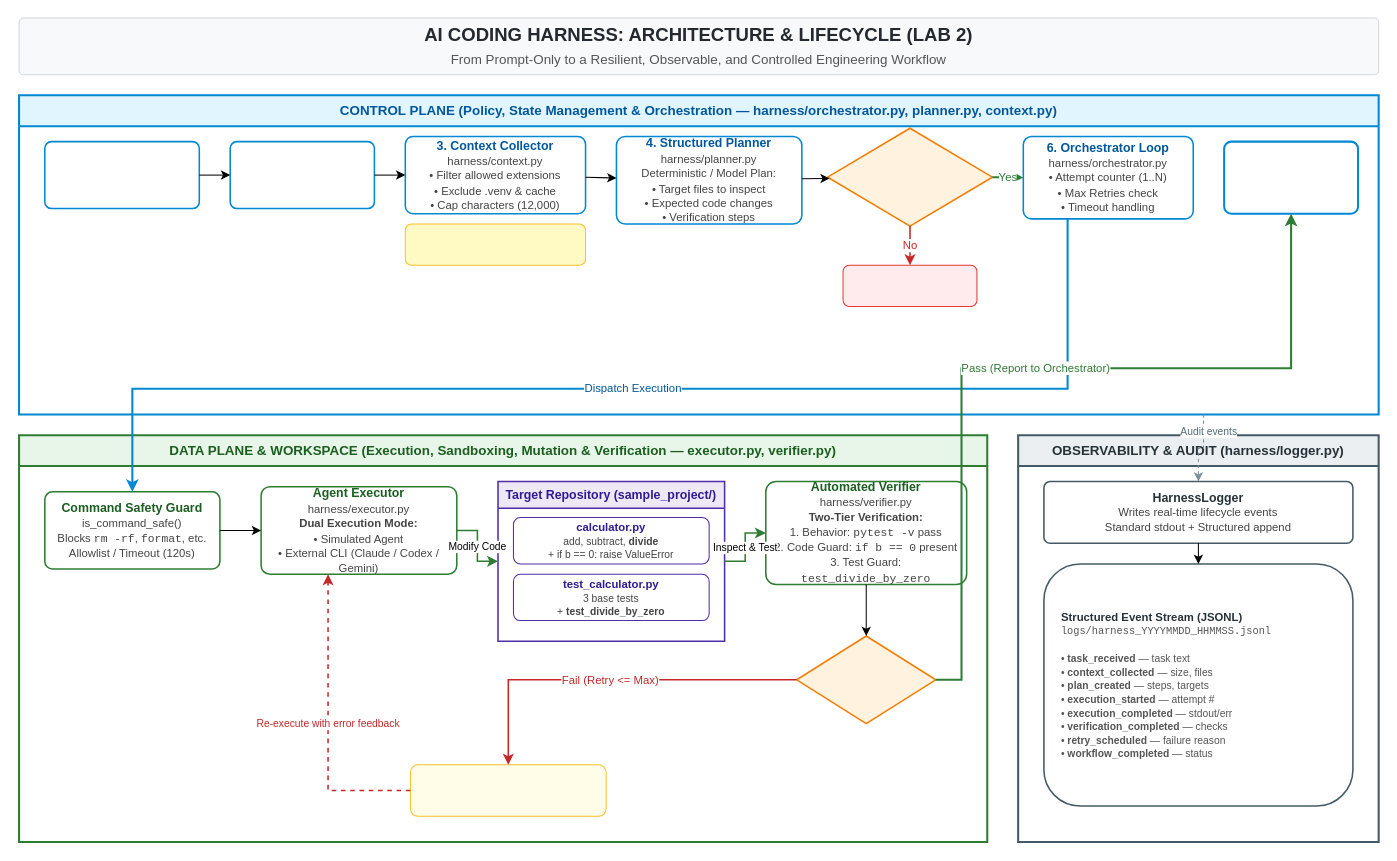
This 1397x861 diagram has some shape labels left out. The shapes that lost their labels are listed below. From the top down, each one's centre as x and y in pixels, then its label:
At (x=122, y=174): "1. User Task Input main.py Task definition & HarnessConfig".
At (x=302, y=174): "2. Task Validation Check empty task Format verification".
At (x=909, y=176): "5. Human Gatekeeper request_human_approval() Approve plan? (yes/no)".
At (x=1291, y=177): "7. Workflow Outcome SUCCESS (Verified) or FAILED (Max retries)".
At (x=495, y=244): "Boundary Guard is_path_inside_repository() Blocks ../ escape".
At (x=909, y=285): "Workflow Cancelled Log & Exit early".
At (x=865, y=679): "Verification Passed?".
At (x=507, y=790): "Retry Scheduler Increment attempt counter Feed error output back to Agent".
